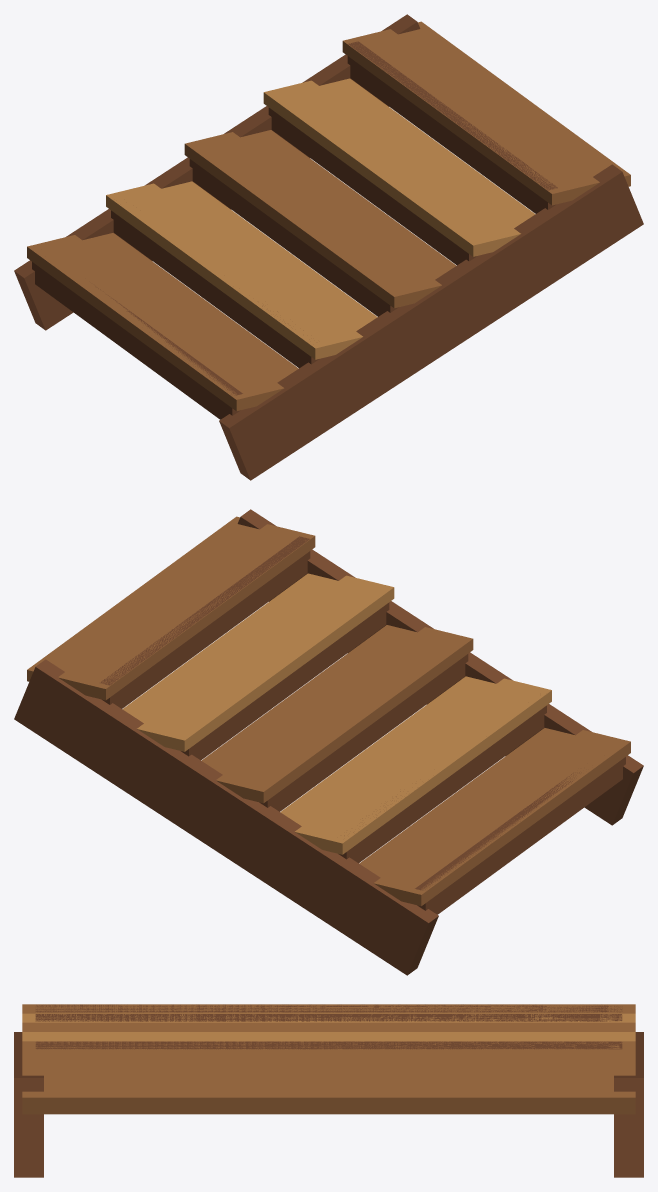
File: boardwalk_stairs.glb
3 renders of one model, top to bottom at view 1: azimuth 30°, elevation 25°; view 2: azimuth 150°, elevation 25°; view 3: azimuth 270°, elevation 25°, orthographic. The views are drawn at different scales.
Visible parts, largest first — view 1: boardwalk_stairs.001; view 2: boardwalk_stairs.001; view 3: boardwalk_stairs.001.
Part boxes in pixels (x1,y1,x2,y2): boardwalk_stairs.001: (14,14,643,480); boardwalk_stairs.001: (14,509,643,975); boardwalk_stairs.001: (14,1004,643,1177).
Bounding box in the file's own units: 2 × 1.01 × 1.8.
